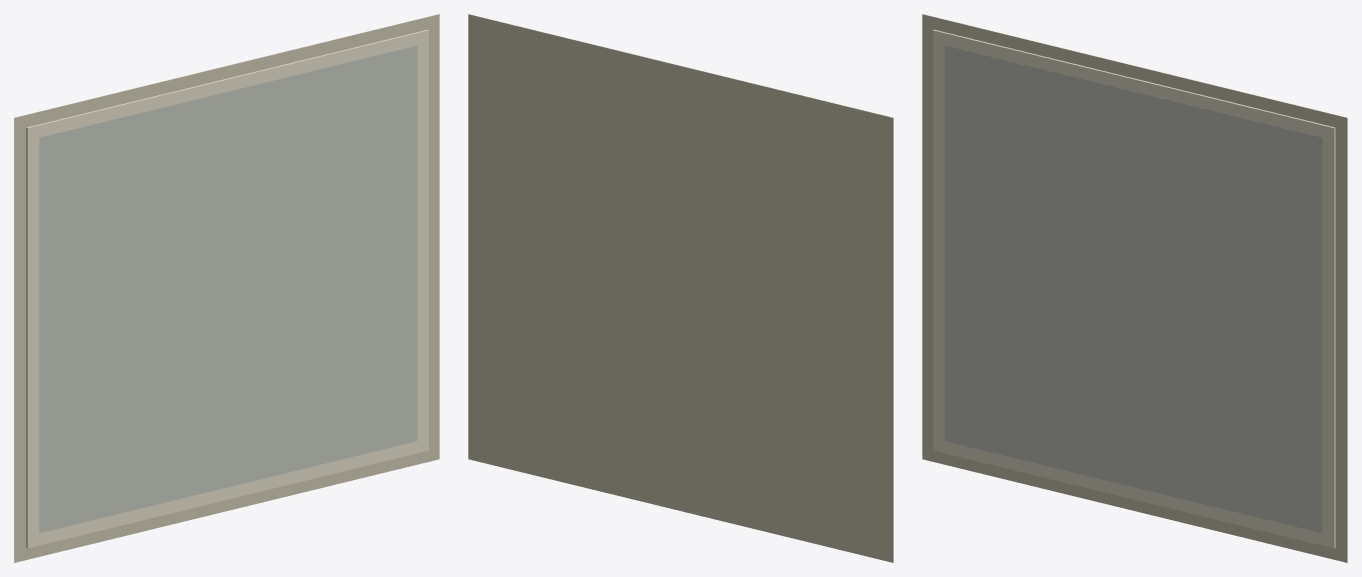
File: supply_nano_pe_stock.glb
3 views of the same model, side by side, from view 1: azimuth 30°, elevation 25°; view 2: azimuth 150°, elevation 25°; view 3: azimuth 330°, elevation 25° (orthographic).
Parts seen in each view (by area): view 1: raw_film_8, paper_interleaf_7, paper_backing, lot_card, paper_interleaf_1, paper_interleaf_5, paper_interleaf_3; view 2: paper_backing; view 3: raw_film_8, paper_interleaf_7, paper_backing, lot_card, paper_interleaf_1, paper_interleaf_5, paper_interleaf_3.
Boxes of the visible parts, x1,y1,x2,y2 form: raw_film_8: [39, 45, 417, 533]; paper_interleaf_7: [27, 30, 428, 548]; paper_backing: [14, 14, 439, 562]; lot_card: [62, 459, 392, 548]; paper_interleaf_1: [26, 29, 427, 547]; paper_interleaf_5: [27, 30, 428, 547]; paper_interleaf_3: [26, 30, 425, 547]; paper_backing: [468, 14, 893, 562]; raw_film_8: [944, 45, 1322, 533]; paper_interleaf_7: [933, 30, 1334, 548]; paper_backing: [922, 14, 1347, 562]; lot_card: [969, 459, 1299, 548]; paper_interleaf_1: [934, 29, 1335, 547]; paper_interleaf_5: [933, 30, 1334, 547]; paper_interleaf_3: [936, 30, 1335, 547].
Bounding box in the file's own units: 0.18 × 0.18 × 0.00113.
Materials: 4 (1 with a texture image).
